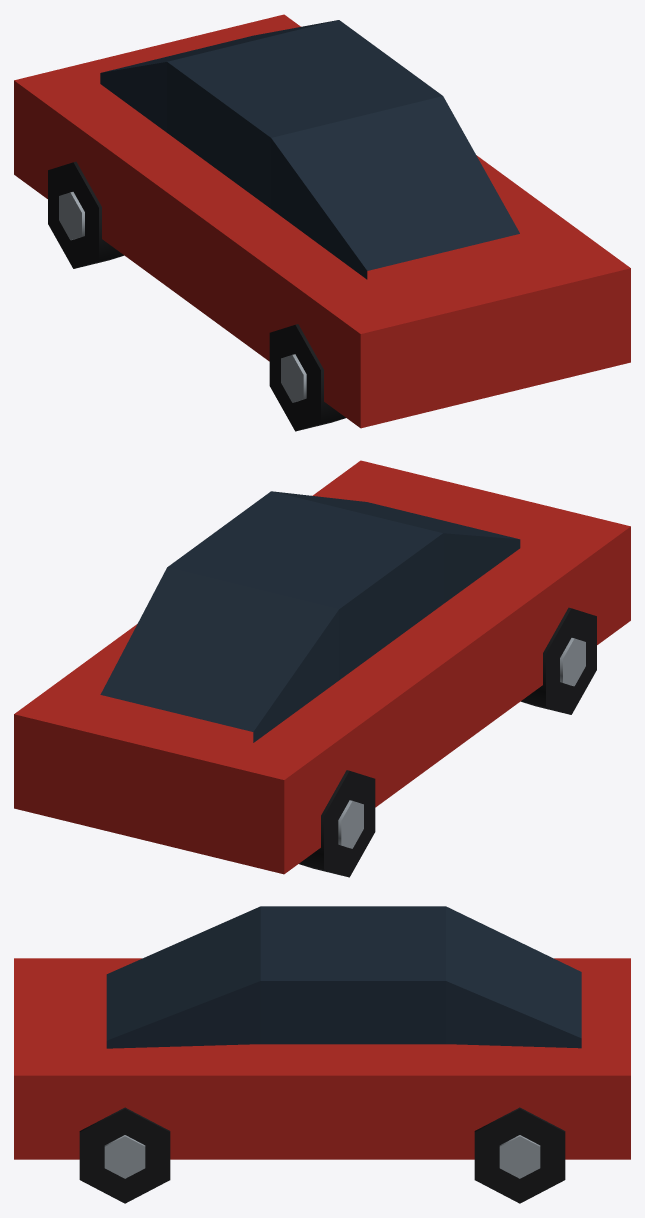
Rendered from veh_ground_car_a07_lod1.glb.
The picture shows the model from 3 angles, top to bottom: view 1: azimuth 30°, elevation 25°; view 2: azimuth 150°, elevation 25°; view 3: azimuth 270°, elevation 25°; orthographic projection. The views are drawn at different scales.
Visible parts, largest first — view 1: body, wheel_2, wheel_0; view 2: body, wheel_0, wheel_2; view 3: body, wheel_1, wheel_3.
Boxes of the visible parts, bbox=[...] form: body: bbox=[14, 14, 630, 428]; wheel_2: bbox=[269, 324, 345, 431]; wheel_0: bbox=[48, 161, 123, 268]; body: bbox=[14, 460, 630, 874]; wheel_0: bbox=[299, 770, 375, 877]; wheel_2: bbox=[521, 607, 596, 714]; body: bbox=[14, 906, 630, 1159]; wheel_1: bbox=[474, 1107, 565, 1203]; wheel_3: bbox=[79, 1107, 170, 1203].
Size of the model in its own units: 1.88 by 1.43 by 4.
